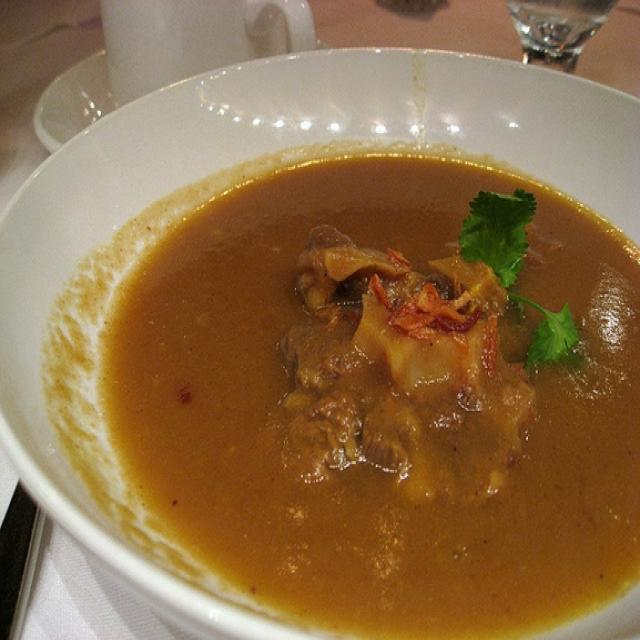汤锅炖物: (18, 84, 636, 621)
